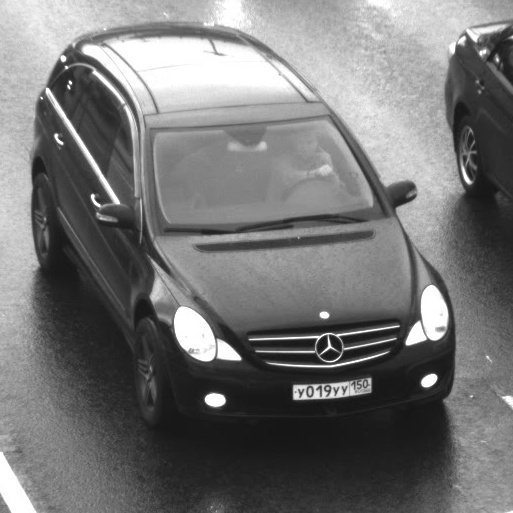plate: (282, 367, 380, 407)
